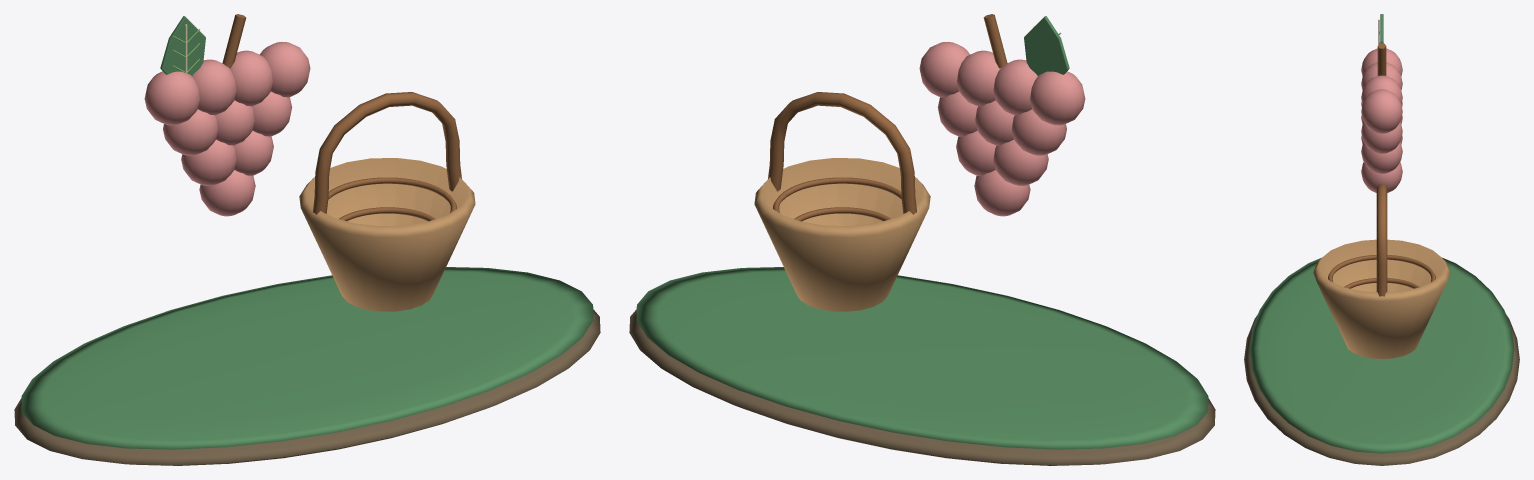
File: grape-harvest.glb
3 views of the same model, side by side, from view 1: azimuth 30°, elevation 25°; view 2: azimuth 150°, elevation 25°; view 3: azimuth 270°, elevation 25° (orthographic). The views are drawn at different scales.
Parts seen in each view (by area): view 1: grape-harvest_surface_01, grape-harvest_surface_04, grape-harvest_surface_02, grape-harvest_surface_00, grape-harvest_surface_03; view 2: grape-harvest_surface_01, grape-harvest_surface_04, grape-harvest_surface_02, grape-harvest_surface_00, grape-harvest_surface_03; view 3: grape-harvest_surface_01, grape-harvest_surface_04, grape-harvest_surface_02, grape-harvest_surface_00, grape-harvest_surface_03.
Part boxes in pixels (box(x1,y1,x2,y2)): grape-harvest_surface_01: box(21, 16, 593, 449); grape-harvest_surface_04: box(299, 158, 475, 311); grape-harvest_surface_02: box(144, 42, 310, 216); grape-harvest_surface_00: box(14, 309, 600, 465); grape-harvest_surface_03: box(222, 14, 461, 221); grape-harvest_surface_01: box(636, 16, 1208, 449); grape-harvest_surface_04: box(754, 158, 930, 311); grape-harvest_surface_02: box(919, 42, 1085, 216); grape-harvest_surface_00: box(629, 309, 1215, 465); grape-harvest_surface_03: box(768, 14, 1007, 221); grape-harvest_surface_01: box(1249, 14, 1514, 453); grape-harvest_surface_04: box(1313, 239, 1450, 358); grape-harvest_surface_02: box(1361, 48, 1402, 192); grape-harvest_surface_00: box(1244, 314, 1519, 465); grape-harvest_surface_03: box(1328, 43, 1435, 296).
Size of the model in its own units: 4.56 by 3.12 by 2.5.
